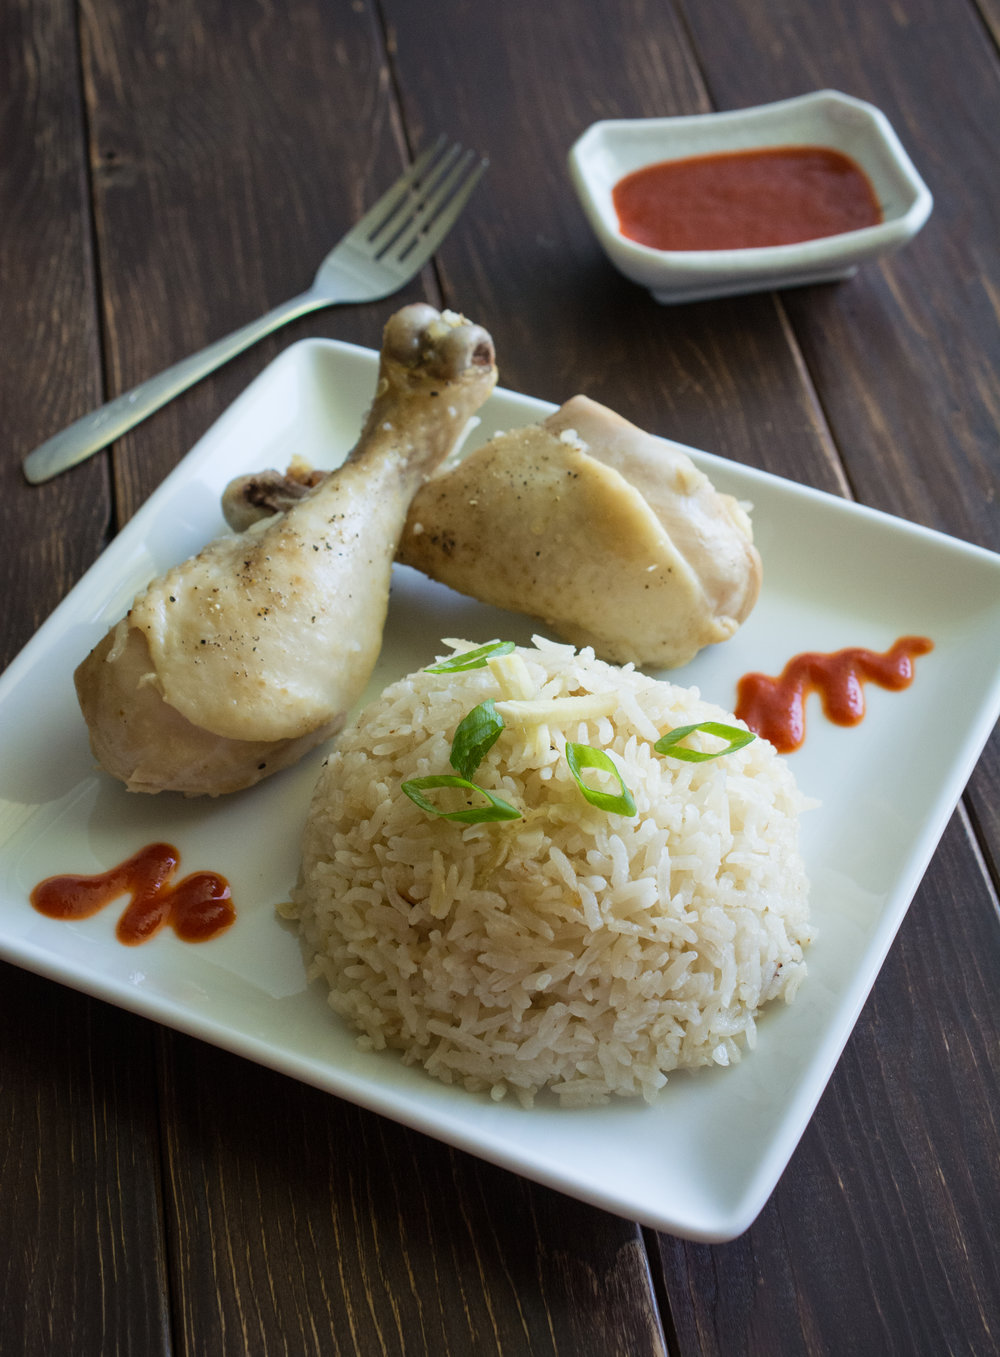plain rice: (313, 652, 790, 1087)
